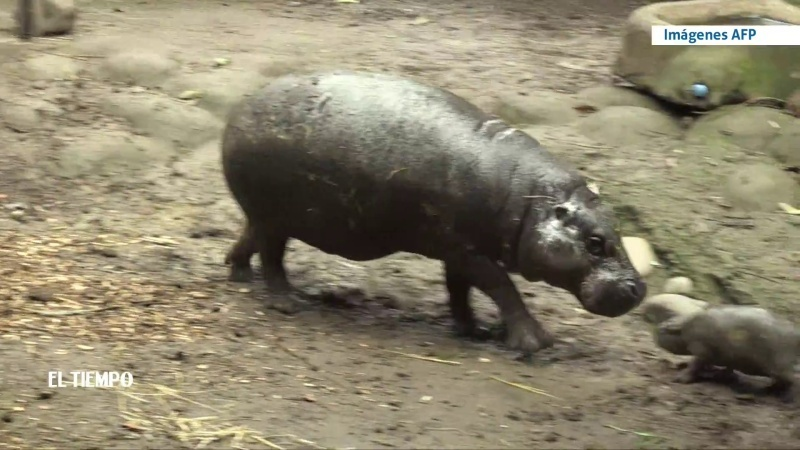hipopotamo: (212, 57, 646, 357), (639, 284, 799, 413)
